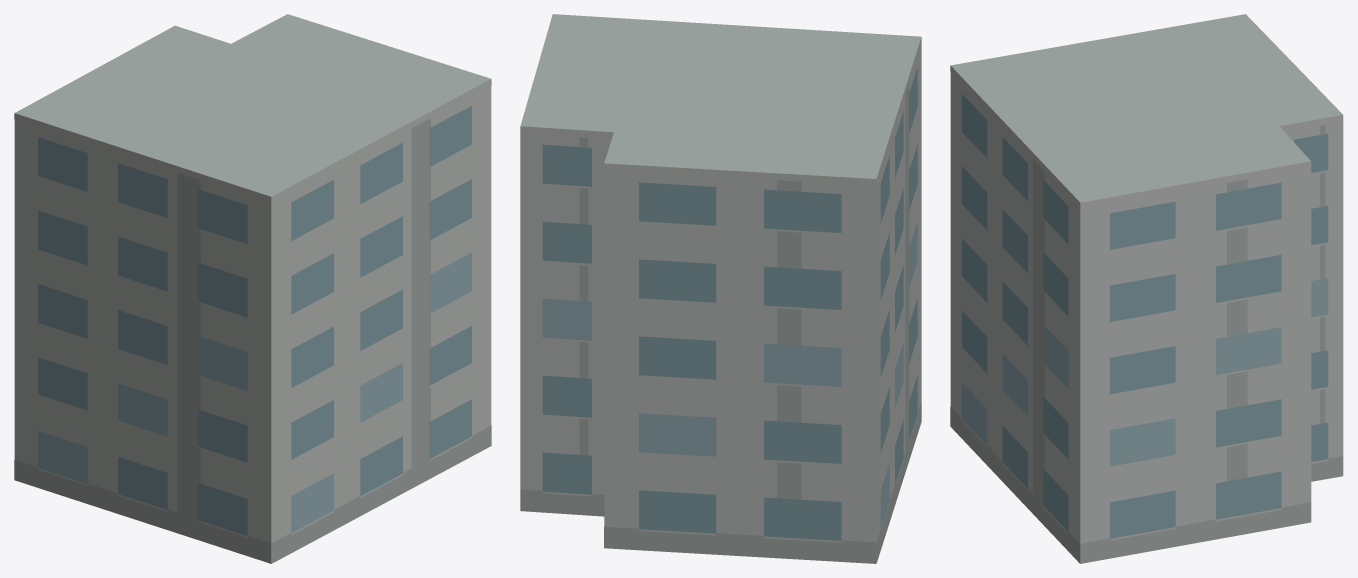
Rendered from survey-upis-33035079.glb.
3 renders of one model, left to right at view 1: azimuth 30°, elevation 25°; view 2: azimuth 150°, elevation 25°; view 3: azimuth 270°, elevation 25°, orthographic. The views are drawn at different scales.
Visible parts, largest first — view 1: survey-upis-33035079.tmp; view 2: survey-upis-33035079.tmp; view 3: survey-upis-33035079.tmp.
Part boxes in pixels (x1,y1,x2,y2): survey-upis-33035079.tmp: (14, 14, 491, 563); survey-upis-33035079.tmp: (520, 14, 921, 563); survey-upis-33035079.tmp: (950, 14, 1343, 563).
Size of the model in its own units: 15.02 by 13.4 by 13.22.
